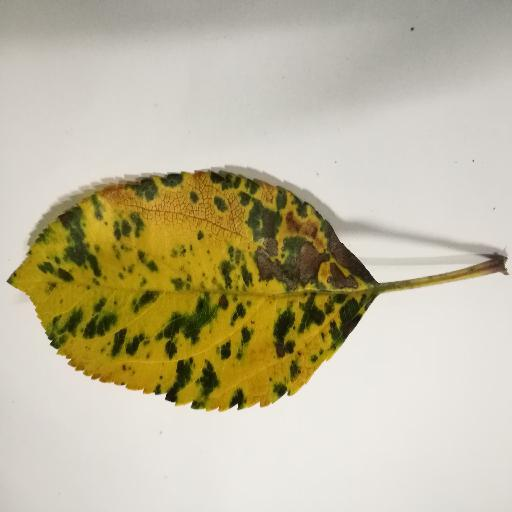Brown_Spot: (225, 201, 372, 293)
